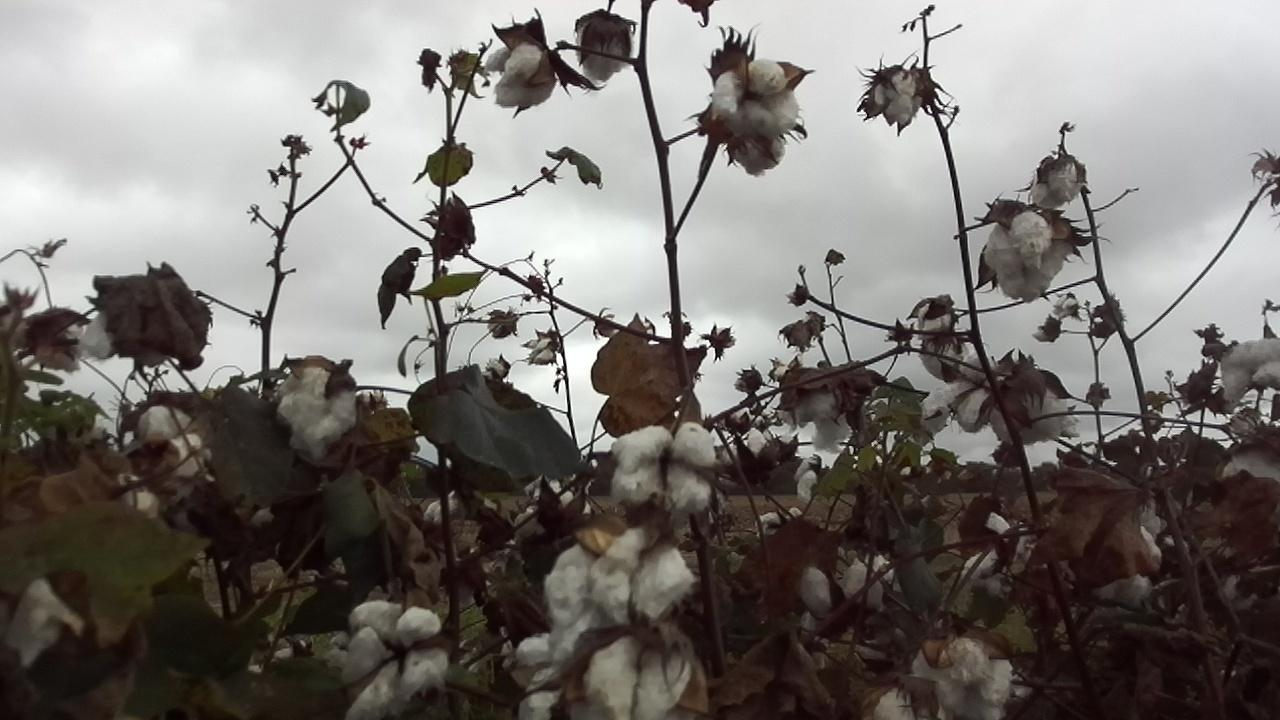cotton_ready: (553, 620, 704, 720), (547, 529, 699, 628), (341, 595, 452, 720), (920, 304, 1000, 437), (699, 56, 792, 170), (5, 577, 94, 688), (613, 419, 719, 506), (910, 635, 1013, 720), (977, 210, 1070, 302), (280, 356, 360, 457), (140, 401, 213, 491), (778, 370, 854, 453), (1097, 520, 1164, 611), (993, 382, 1077, 447), (1219, 337, 1280, 413), (513, 630, 561, 720), (574, 11, 635, 81), (489, 46, 555, 107), (961, 514, 1014, 586), (870, 68, 933, 124), (841, 552, 896, 613), (1218, 438, 1280, 489), (1034, 155, 1082, 209), (796, 563, 837, 614), (867, 690, 928, 720)
